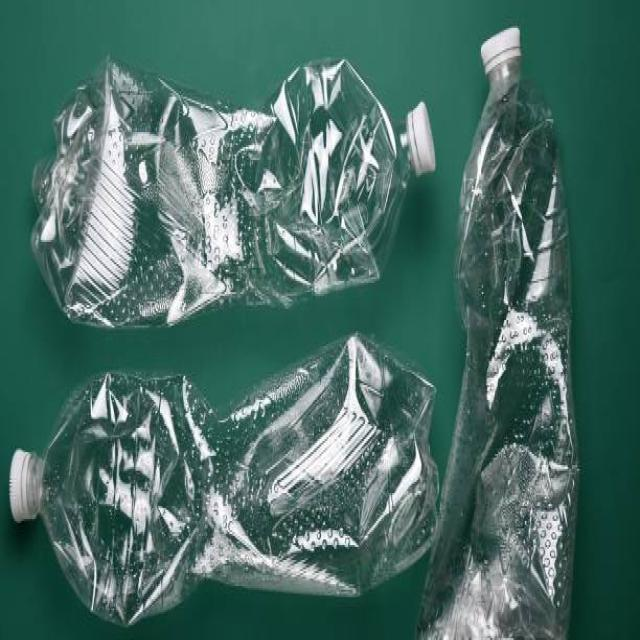plastic: (43, 35, 587, 603)
